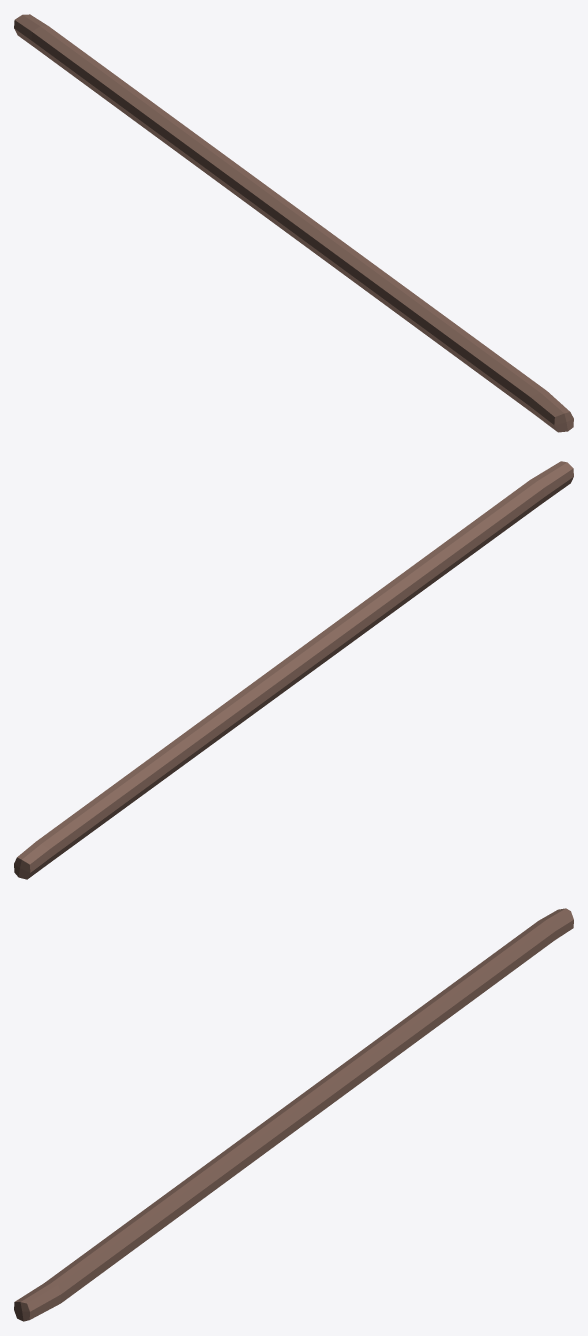
Rendered from Wooden_Rod_2_low.fbx.
The picture shows the model from 3 angles, top to bottom: view 1: azimuth 30°, elevation 25°; view 2: azimuth 150°, elevation 25°; view 3: azimuth 330°, elevation 25°; orthographic projection.
Parts seen in each view (by area): view 1: Wooden_Rod_2_low; view 2: Wooden_Rod_2_low; view 3: Wooden_Rod_2_low.
Part boxes in pixels (x1,y1,x2,y2): Wooden_Rod_2_low: [14, 14, 573, 432]; Wooden_Rod_2_low: [14, 461, 573, 879]; Wooden_Rod_2_low: [14, 908, 573, 1321].
Size of the model in its own units: 0.1014 by 0.0928 by 4.28.
